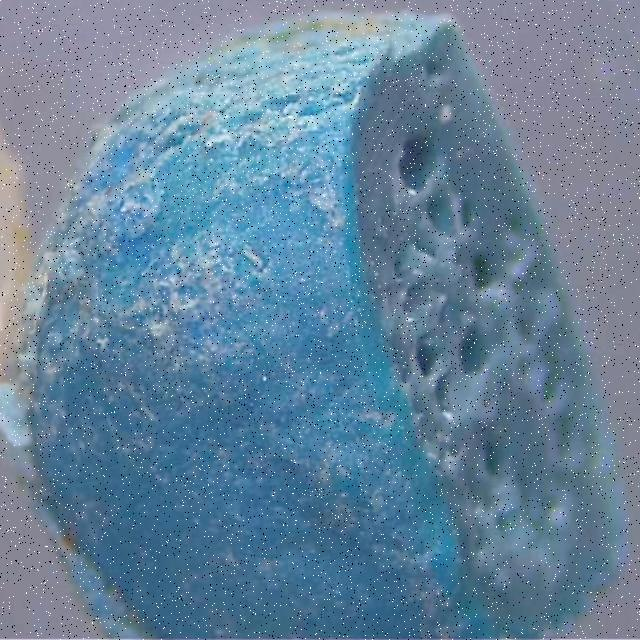fragments: (19, 11, 628, 640)
